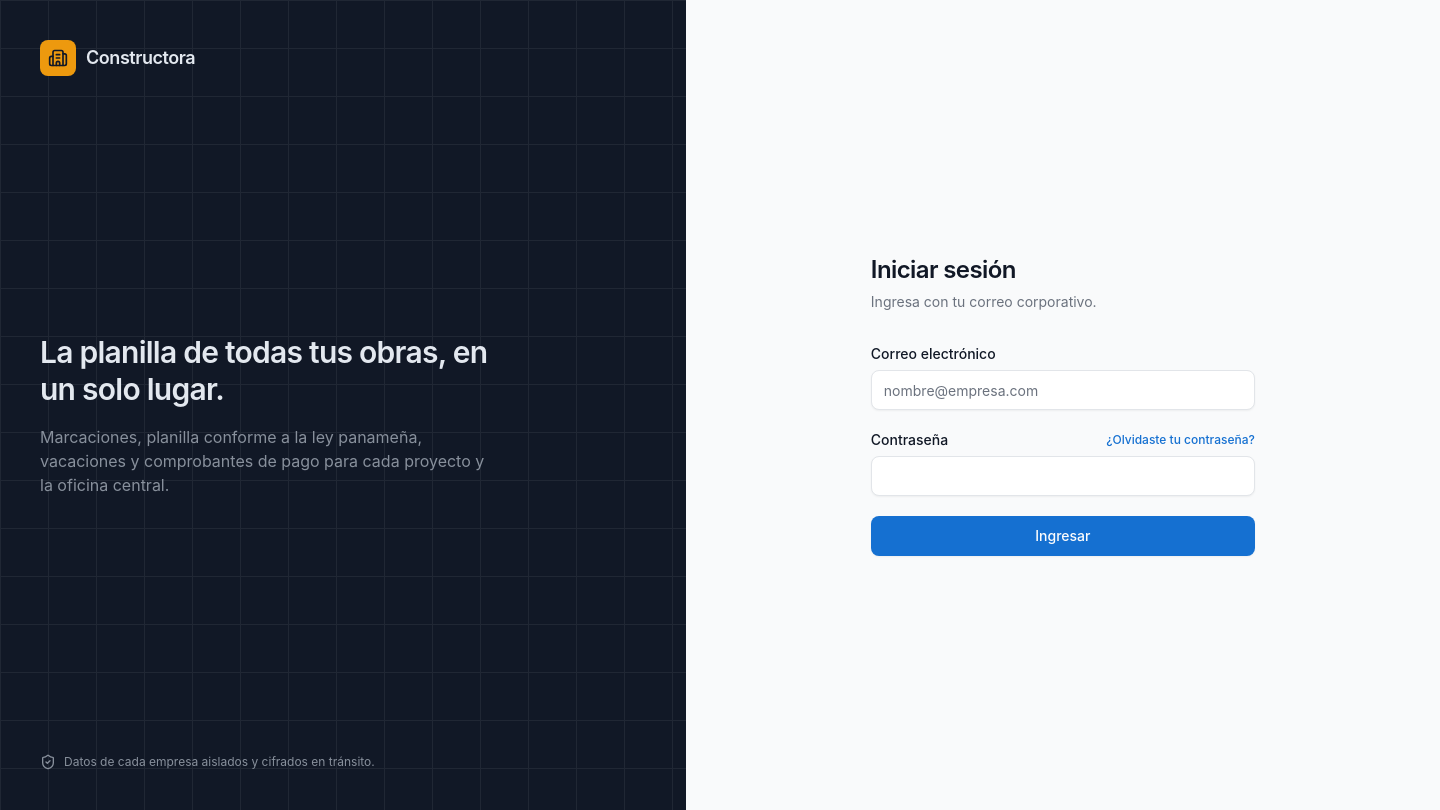
LoginPage › valida los campos antes de enviar
Click the button "Ingresar" at point(1063, 536), box [871,516,1255,556]
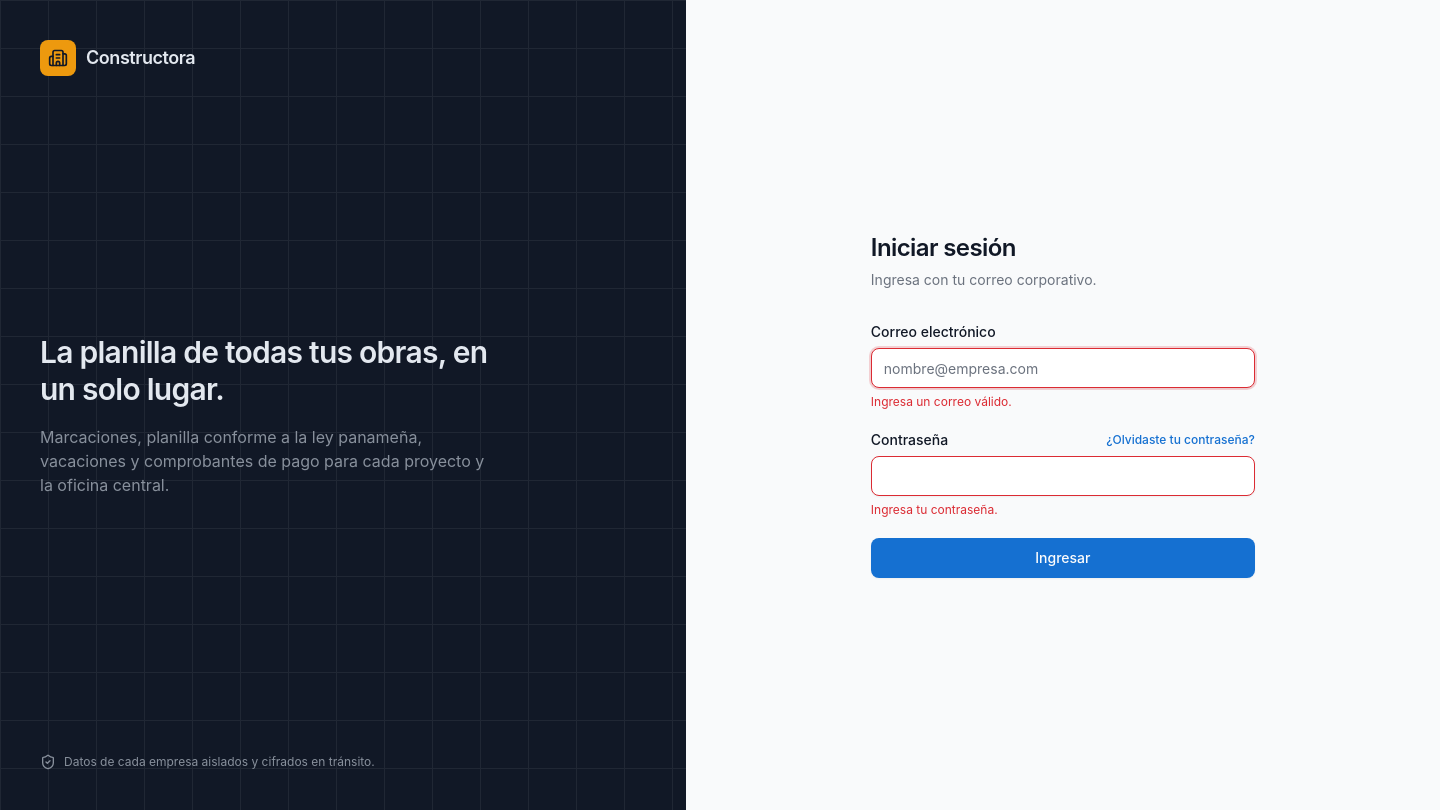
Expected: the text "Ingresa un correo válido." is shown, [871,394,1012,409]
Expected: the text "Ingresa tu contraseña." is shown, [871,502,998,517]
